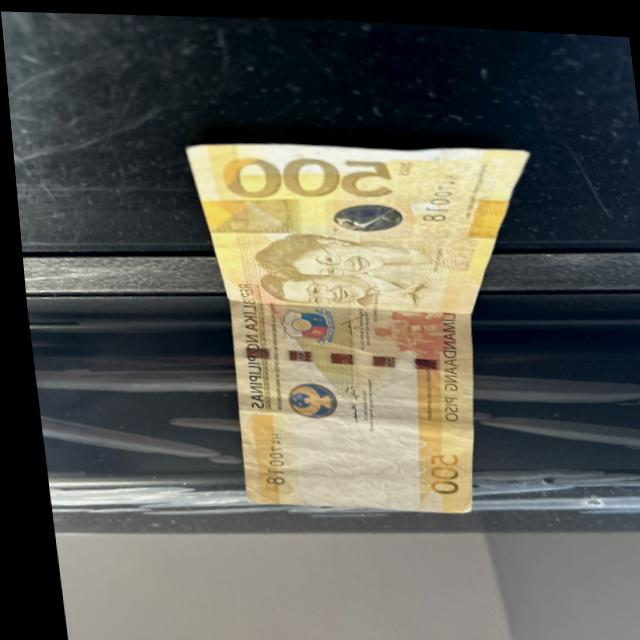concealed_value: (204, 193, 298, 239)
optically_variable_device: (324, 193, 408, 234)
